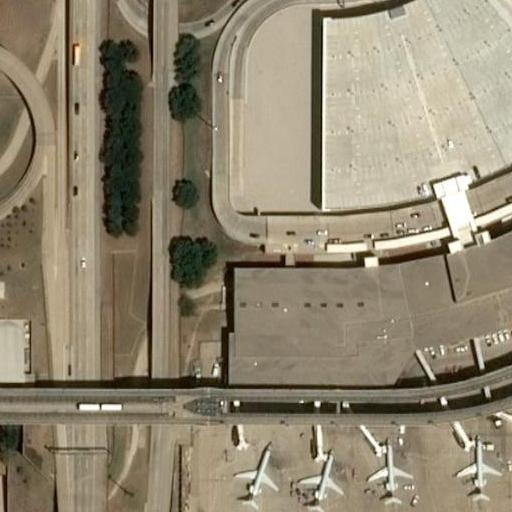Aircraft: (445, 437, 506, 505), (365, 442, 416, 511), (293, 445, 341, 512), (235, 441, 277, 508)
